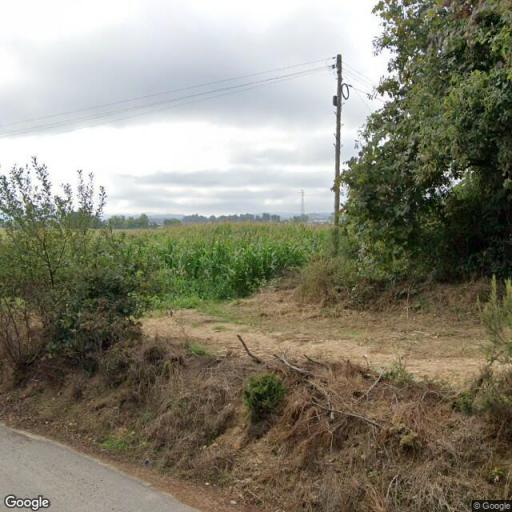mono_7: (328, 49, 350, 251)
